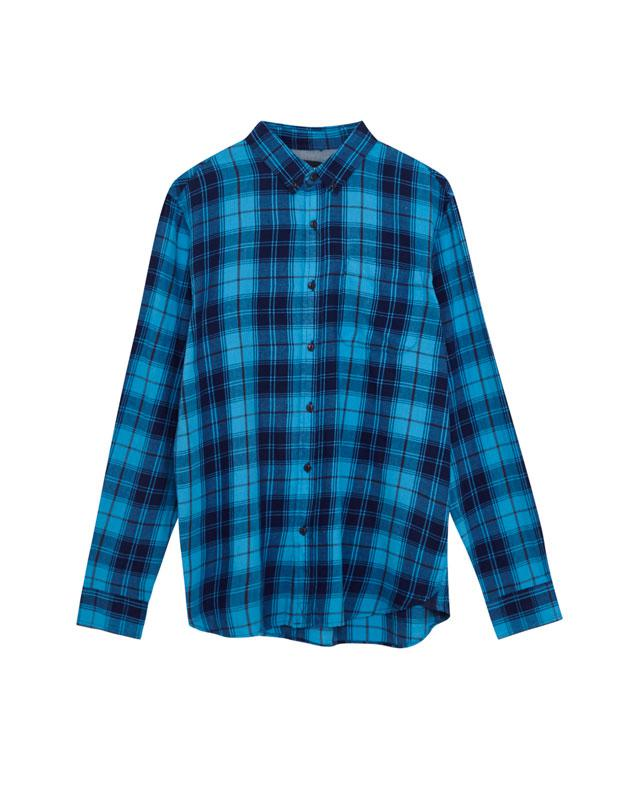teeshirt: (53, 118, 570, 655)
